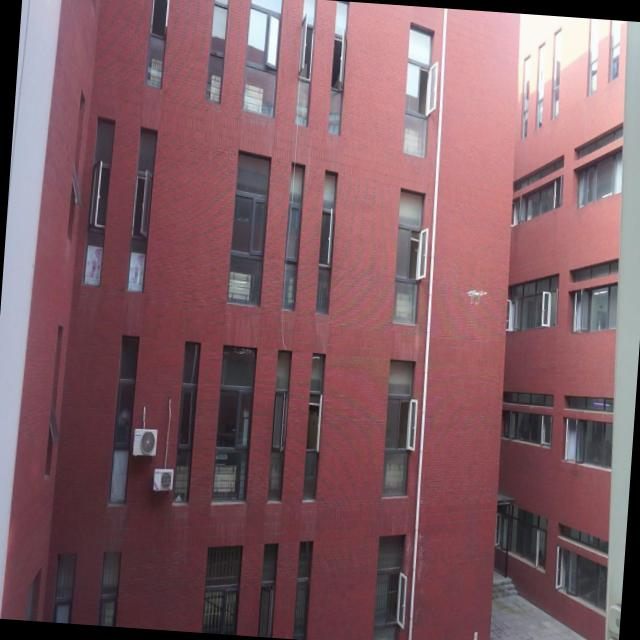drone: (461, 284, 488, 310)
